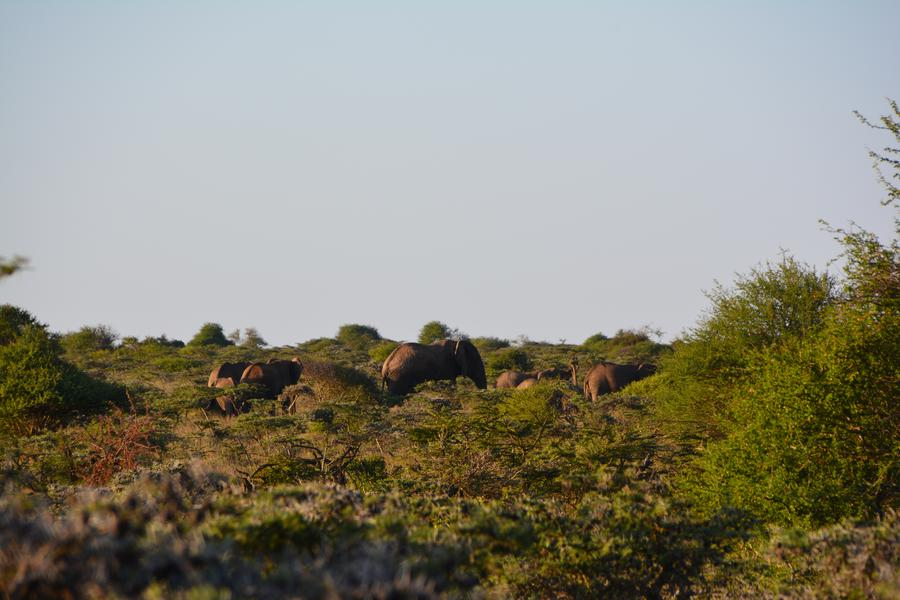elephant: (378, 337, 485, 400), (580, 359, 663, 400), (245, 355, 304, 401)
